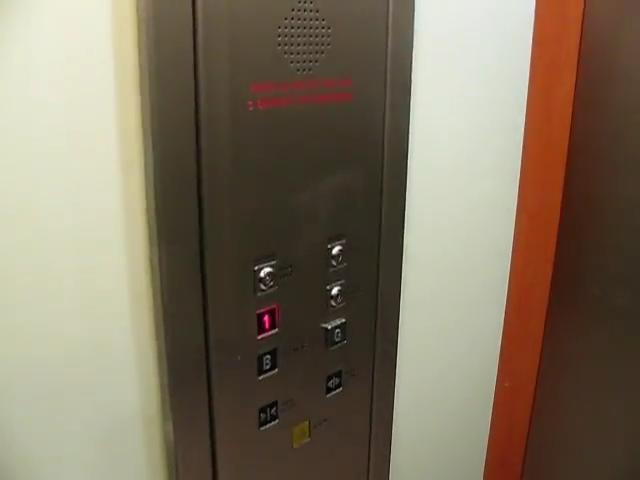1: (252, 304, 279, 339)
B: (254, 346, 279, 382)
G: (319, 317, 349, 350)
blur: (289, 420, 311, 449)
close: (255, 399, 281, 431)
keyhole: (252, 261, 278, 296), (326, 238, 350, 272), (327, 279, 348, 309)
open: (321, 369, 344, 399)
